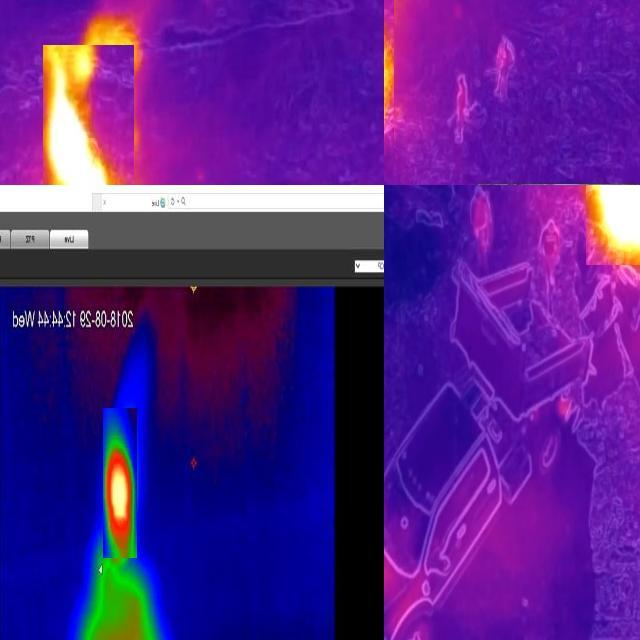fire: (44, 46, 135, 186), (104, 409, 138, 559), (587, 189, 640, 264)
